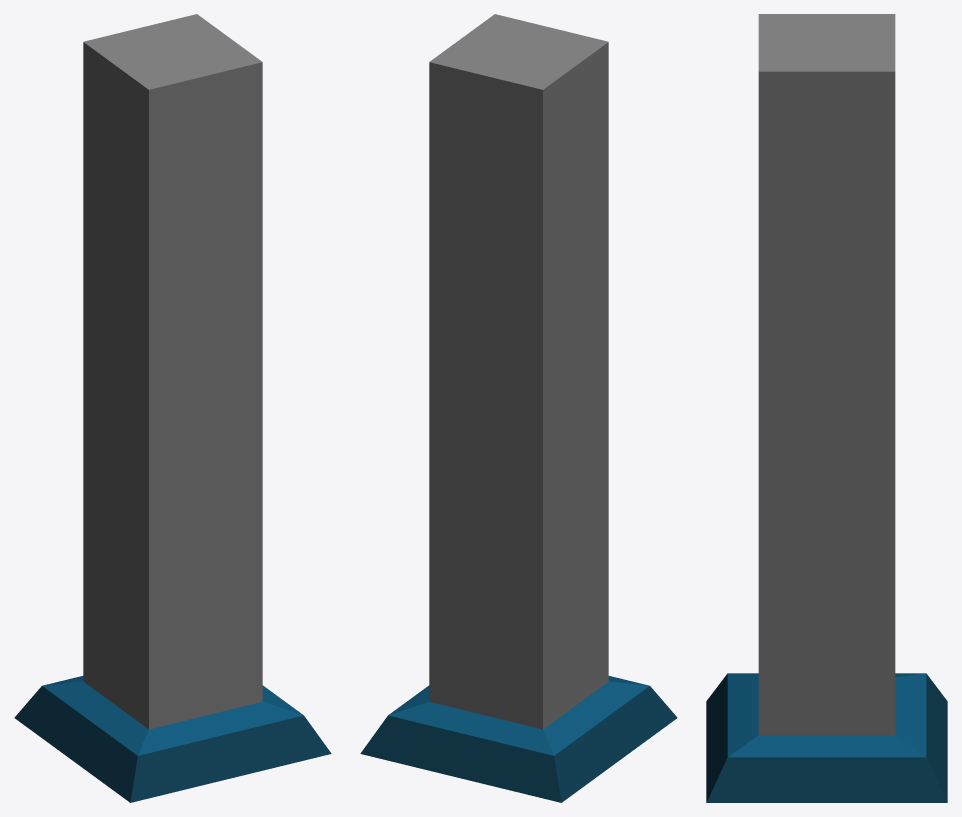
The model's file is pillar_type_05.fbx.
The picture shows the model from 3 angles, left to right: view 1: azimuth 30°, elevation 25°; view 2: azimuth 150°, elevation 25°; view 3: azimuth 270°, elevation 25°; orthographic projection. The views are drawn at different scales.
Visible parts, largest first — view 1: pillar_type_05; view 2: pillar_type_05; view 3: pillar_type_05.
Part boxes in pixels (<box>): pillar_type_05: <box>14,14,331,802</box>; pillar_type_05: <box>360,14,677,802</box>; pillar_type_05: <box>706,14,947,802</box>.
Bounding box in the file's own units: 61.29 × 199 × 61.29.
